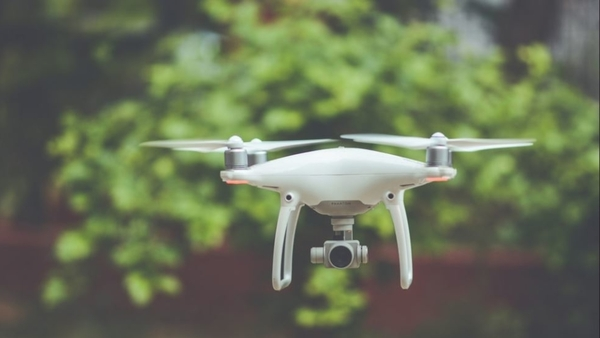drone: (138, 129, 539, 293)
